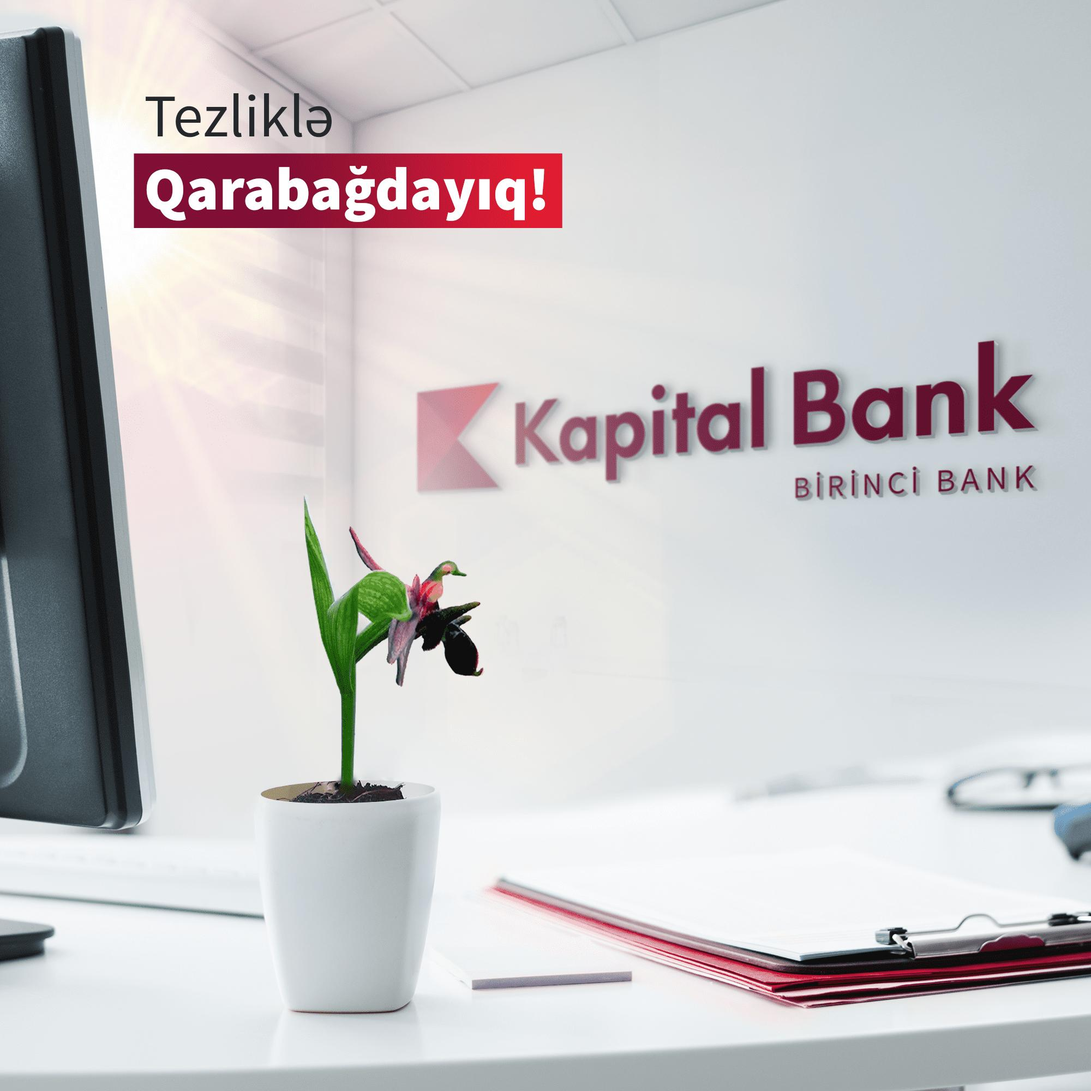Kapital Bank: (413, 381, 507, 491)
